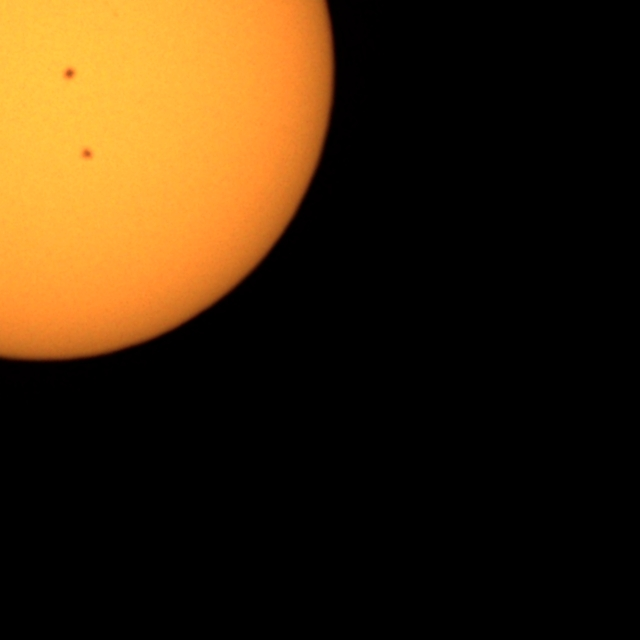sunspot: (79, 146, 95, 162), (62, 66, 78, 82)
